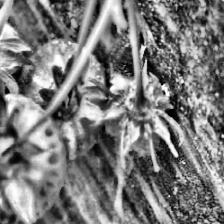Gray Mold: (86, 58, 184, 171)
